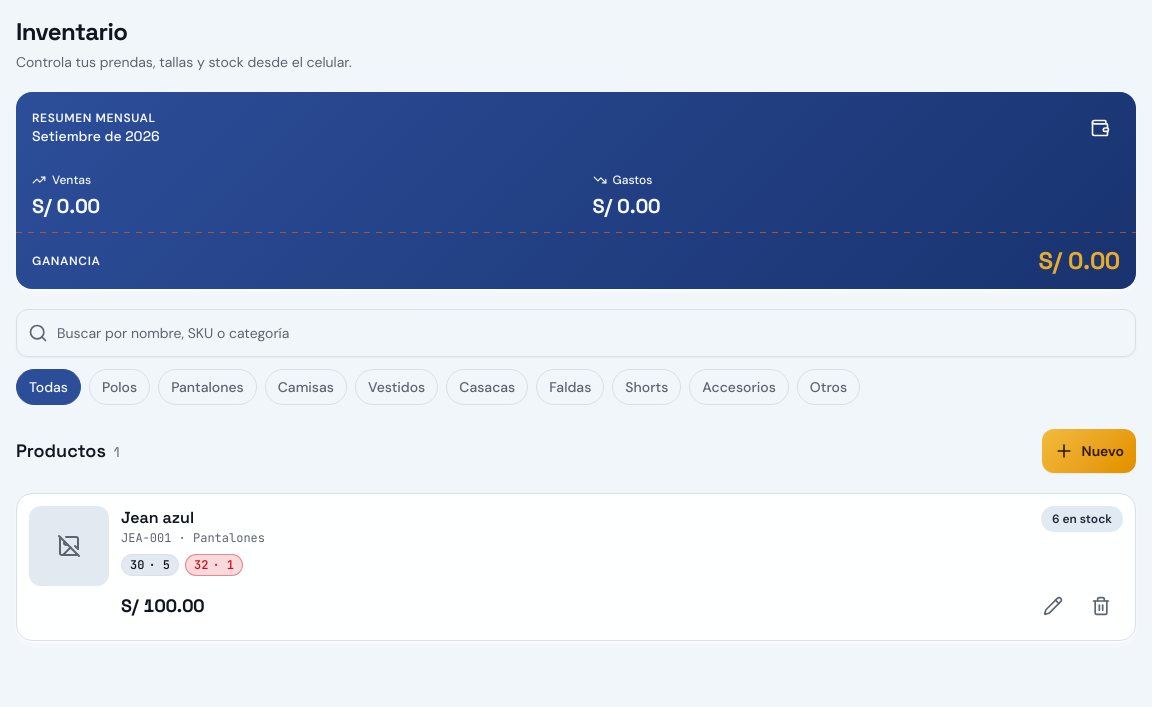
Inventario › elimina un producto tras confirmar
The width and height of the screenshot is (1152, 707).
Click the button with test id "inventario.delete_button.1" at (1101, 606), box [1079,584,1123,628]
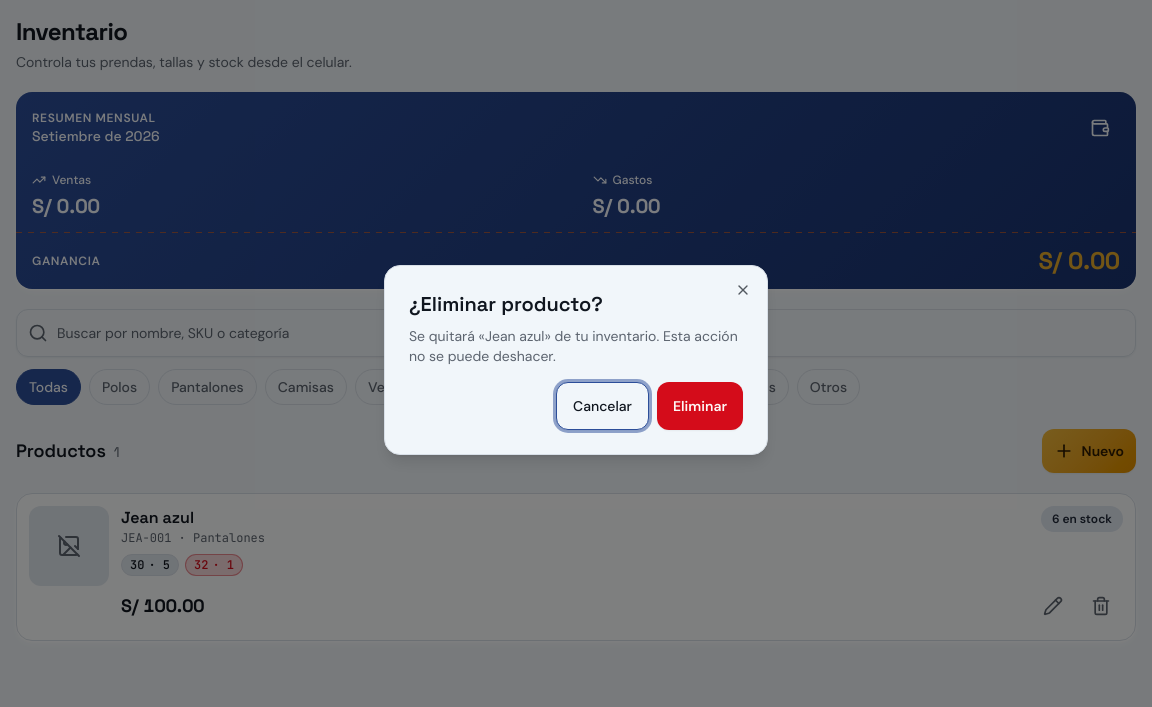
Click the button with test id "inventario.delete_confirm_button" at (700, 406), box [657,382,743,430]
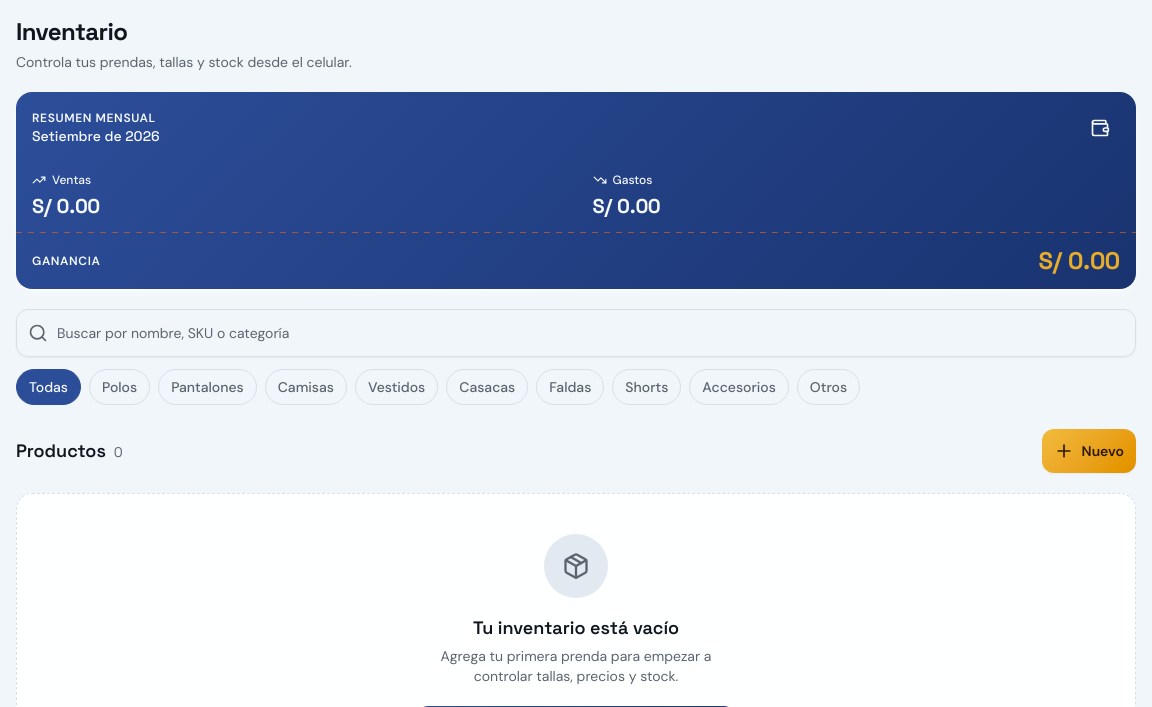
Result: the heading "Jean azul" is gone
